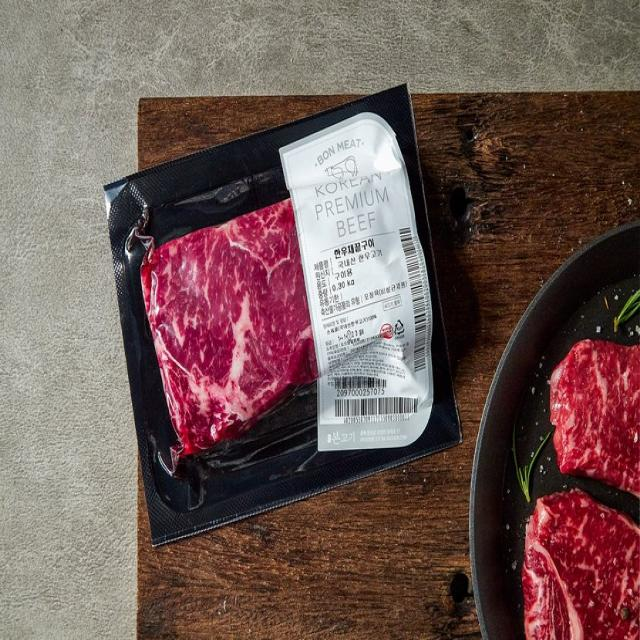beef: (137, 174, 442, 479)
